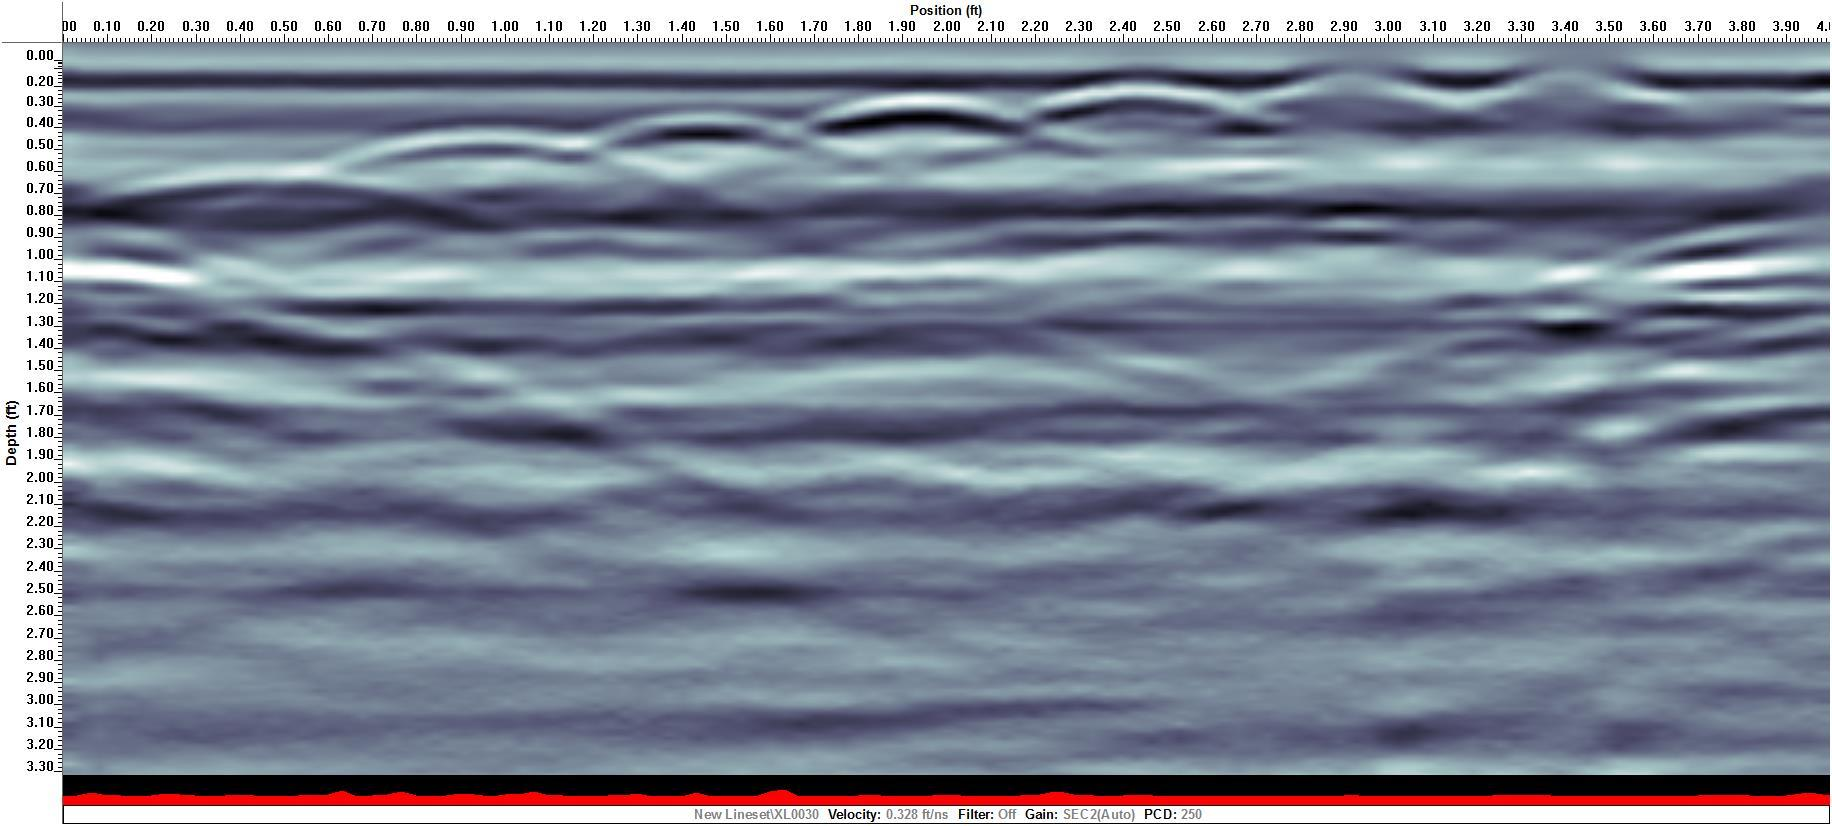hyperbola: (96, 154, 449, 238), (322, 106, 633, 197), (777, 76, 1061, 173), (998, 69, 1264, 151), (574, 95, 839, 174)
